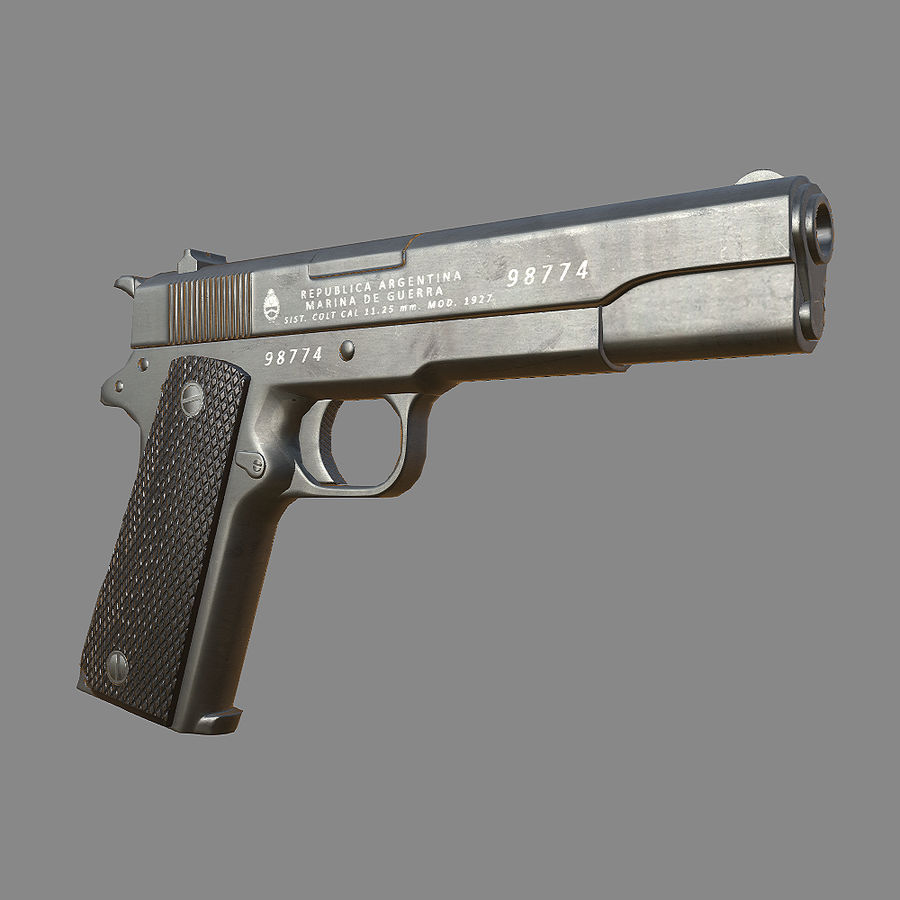Arma Real: (75, 167, 841, 740)
